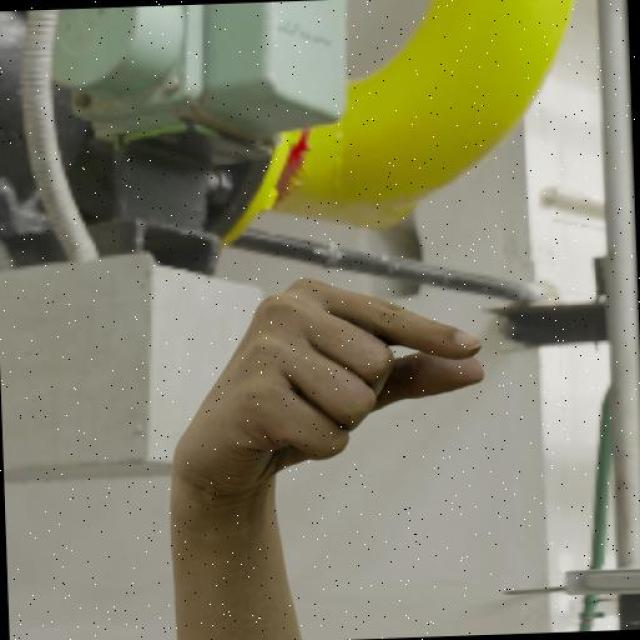G: (156, 268, 494, 527)
